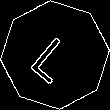L_NE: (27, 26, 83, 84)
